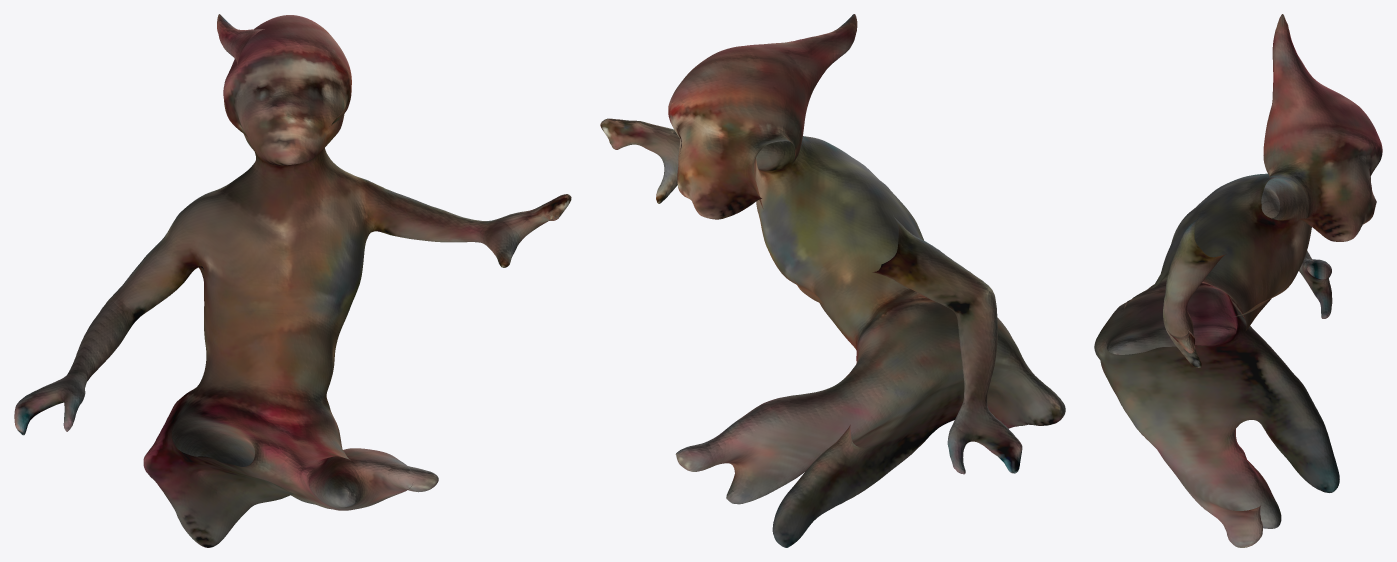
The model's file is sacizinho.glb.
3 renders of one model, left to right at view 1: azimuth 30°, elevation 25°; view 2: azimuth 150°, elevation 25°; view 3: azimuth 270°, elevation 25°, orthographic. The views are drawn at different scales.
Parts seen in each view (by area): view 1: geometry_0; view 2: geometry_0; view 3: geometry_0.
Part boxes in pixels (bbox=[...]): geometry_0: bbox=[14, 14, 571, 547]; geometry_0: bbox=[600, 14, 1065, 547]; geometry_0: bbox=[1094, 14, 1382, 547].
Size of the model in its own units: 0.9562 by 0.9731 by 0.5508.
